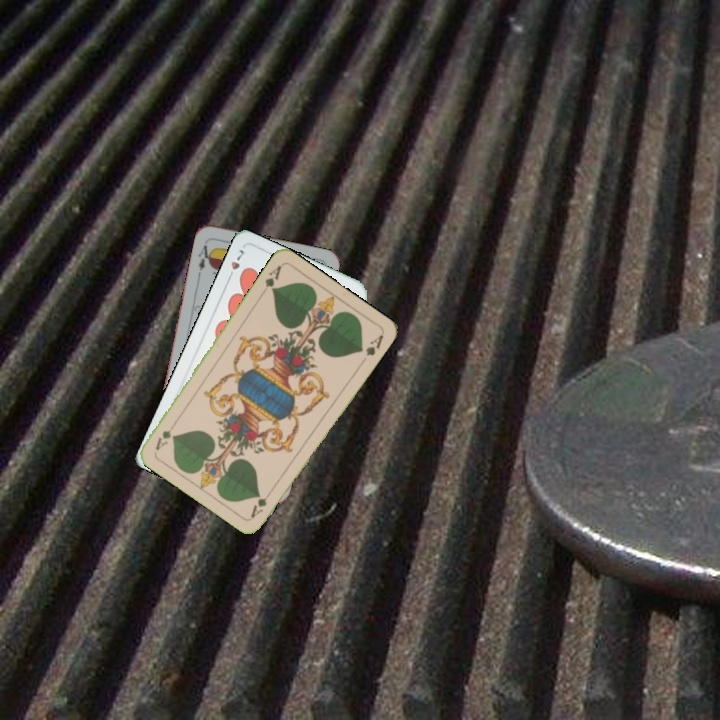EA: (193, 241, 215, 278)
GA: (247, 485, 276, 520), (258, 261, 284, 297)
H7: (224, 245, 247, 283)
